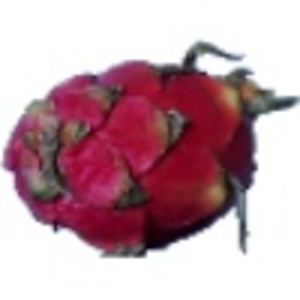pitaia: (1, 40, 300, 259)
